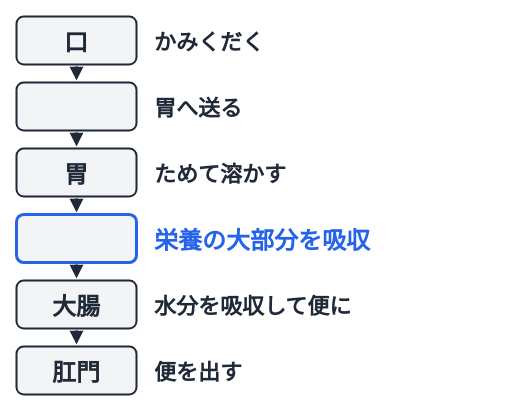
Image size: 513x411. Some labels were removed from this diagram. The shapes that lost their labels are listed below. From the top down, each one's centre as x and y in pixels, then its label:
At (76,106): "食道".
At (76,238): "小腸".
